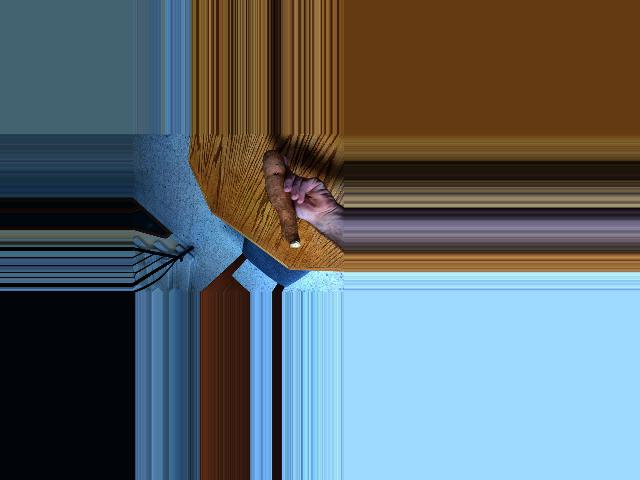sweet_potato: (258, 152, 304, 250)
